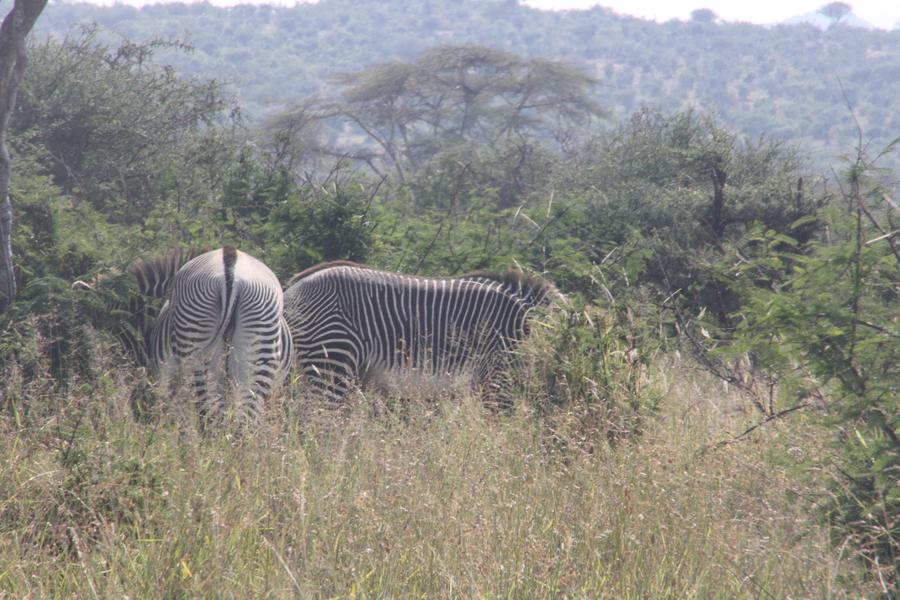zebra_grevys: (284, 248, 523, 385)
